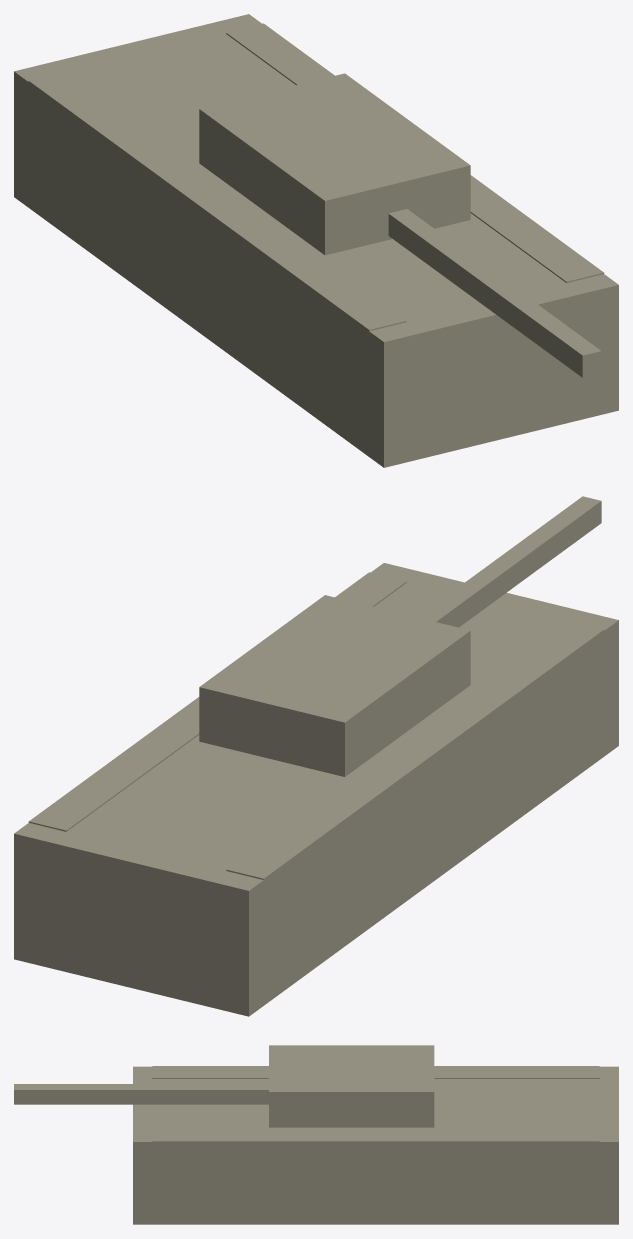
Rendered from katyusha.glb.
The picture shows the model from 3 angles, top to bottom: view 1: azimuth 30°, elevation 25°; view 2: azimuth 150°, elevation 25°; view 3: azimuth 270°, elevation 25°; orthographic projection. The views are drawn at different scales.
Visible parts, largest first — view 1: Hull, Turret, Track_L, Gun, Track_R; view 2: Hull, Turret, Track_L, Track_R, Gun; view 3: Hull, Track_R, Turret, Gun, Track_L.
Part boxes in pixels (box(x1,y1,x2,y2)): Hull: box(14, 14, 618, 467); Turret: box(199, 73, 470, 255); Track_L: box(28, 71, 406, 390); Gun: box(388, 209, 601, 377); Track_R: box(226, 23, 604, 282); Hull: box(14, 563, 618, 1016); Turret: box(199, 595, 470, 776); Track_L: box(226, 620, 604, 939); Track_R: box(28, 572, 406, 831); Gun: box(417, 496, 601, 627); Hull: box(133, 1066, 618, 1224); Track_R: box(152, 1129, 599, 1181); Turret: box(269, 1045, 434, 1127); Gun: box(14, 1084, 268, 1104); Track_L: box(152, 1066, 599, 1078).
Bounding box in the file's own units: 2.2 × 1.61 × 7.47.
